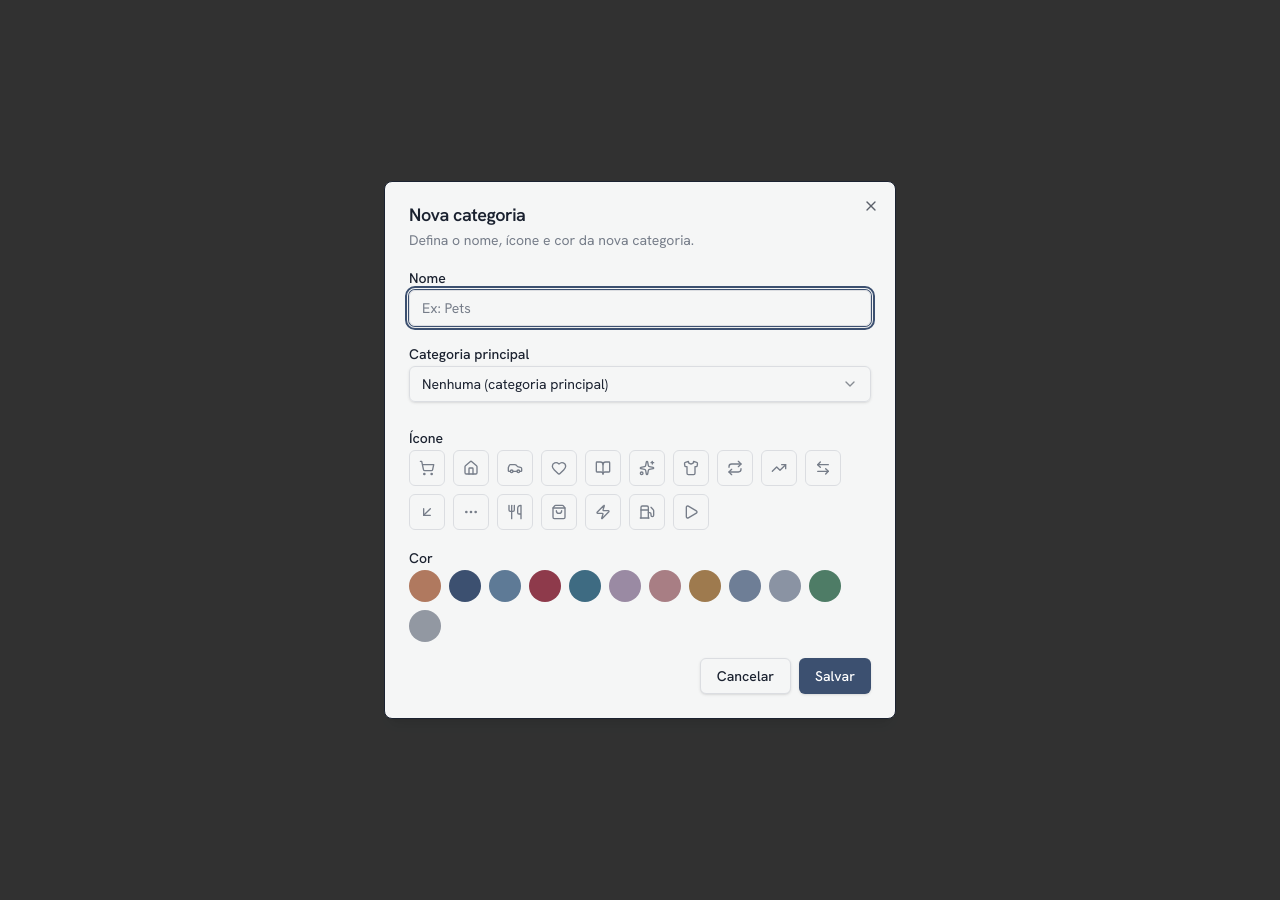
CategoryForm › shows a validation error when name is empty
Step 1. Click the button "Salvar" → (835,676), box left=799, top=658, right=871, bottom=694
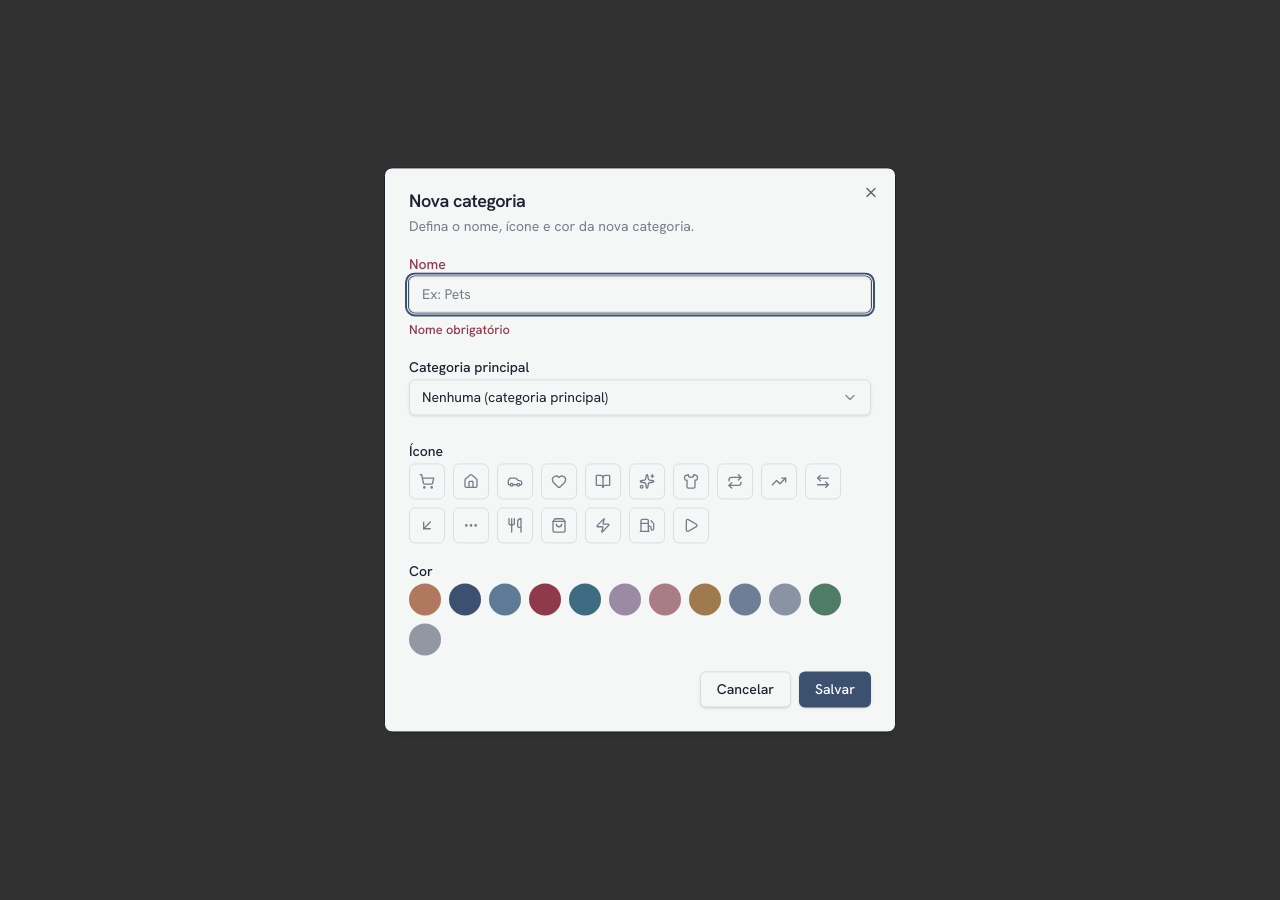
Expected: the text "Nome obrigatório" is shown, left=409, top=321, right=510, bottom=338
